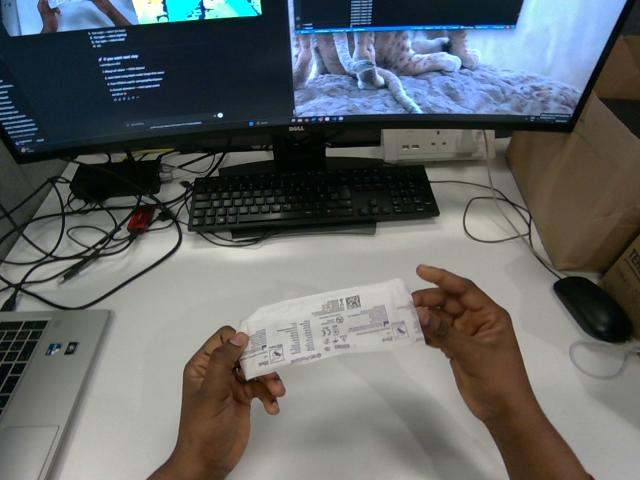syringe: (238, 279, 423, 378), (48, 0, 84, 8)
